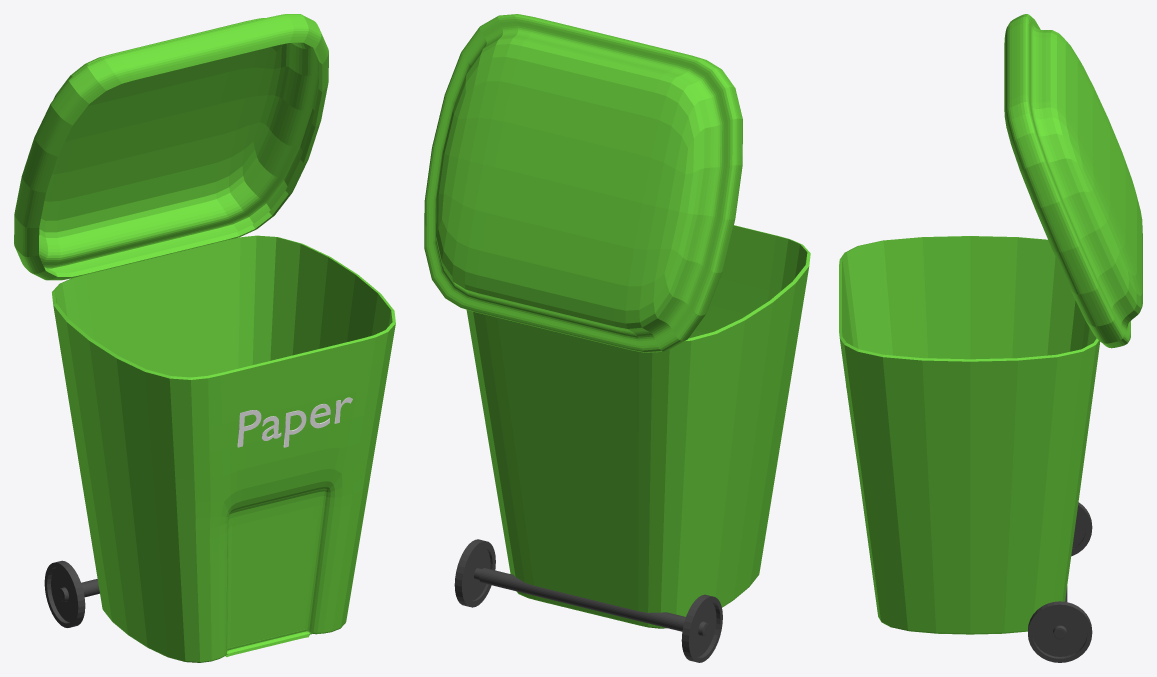
File: Recycling_Paper_Bin.fbx
3 renders of one model, left to right at view 1: azimuth 30°, elevation 25°; view 2: azimuth 150°, elevation 25°; view 3: azimuth 270°, elevation 25°, orthographic. The views are drawn at different scales.
Parts seen in each view (by area): view 1: Cube, Cube.001, Cylinder.001, Text; view 2: Cube.001, Cube, Cylinder.001, Cylinder; view 3: Cube, Cube.001, Cylinder.001.
Part boxes in pixels (bbox=[...]): Cube: bbox=[52, 235, 395, 662]; Cube.001: bbox=[14, 14, 328, 280]; Cylinder.001: bbox=[44, 560, 85, 627]; Text: bbox=[237, 397, 352, 447]; Cube.001: bbox=[424, 14, 742, 352]; Cube: bbox=[466, 225, 810, 628]; Cylinder.001: bbox=[454, 539, 722, 662]; Cylinder: bbox=[479, 568, 685, 631]; Cube: bbox=[839, 236, 1100, 634]; Cube.001: bbox=[1004, 14, 1142, 348]; Cylinder.001: bbox=[1028, 502, 1092, 662].
Bounding box in the file's own units: 184 × 345 × 173.
